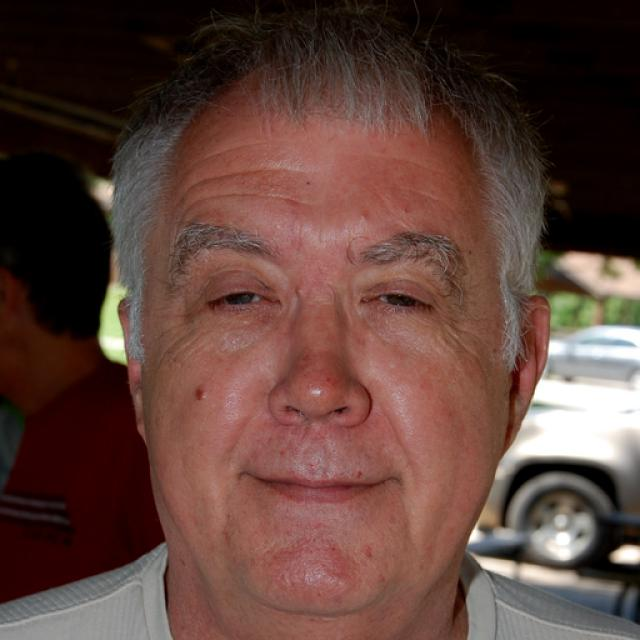Acne: (348, 204, 377, 232), (187, 384, 210, 410), (395, 199, 417, 225), (358, 544, 380, 564), (285, 283, 307, 302)
Spots: (317, 363, 342, 393), (348, 463, 368, 486)
